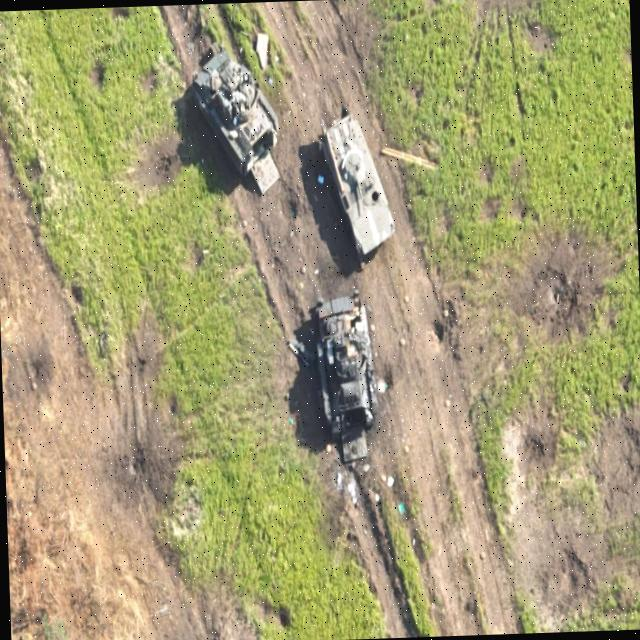AIFV: (188, 45, 287, 199), (308, 283, 382, 465), (314, 108, 400, 264)
